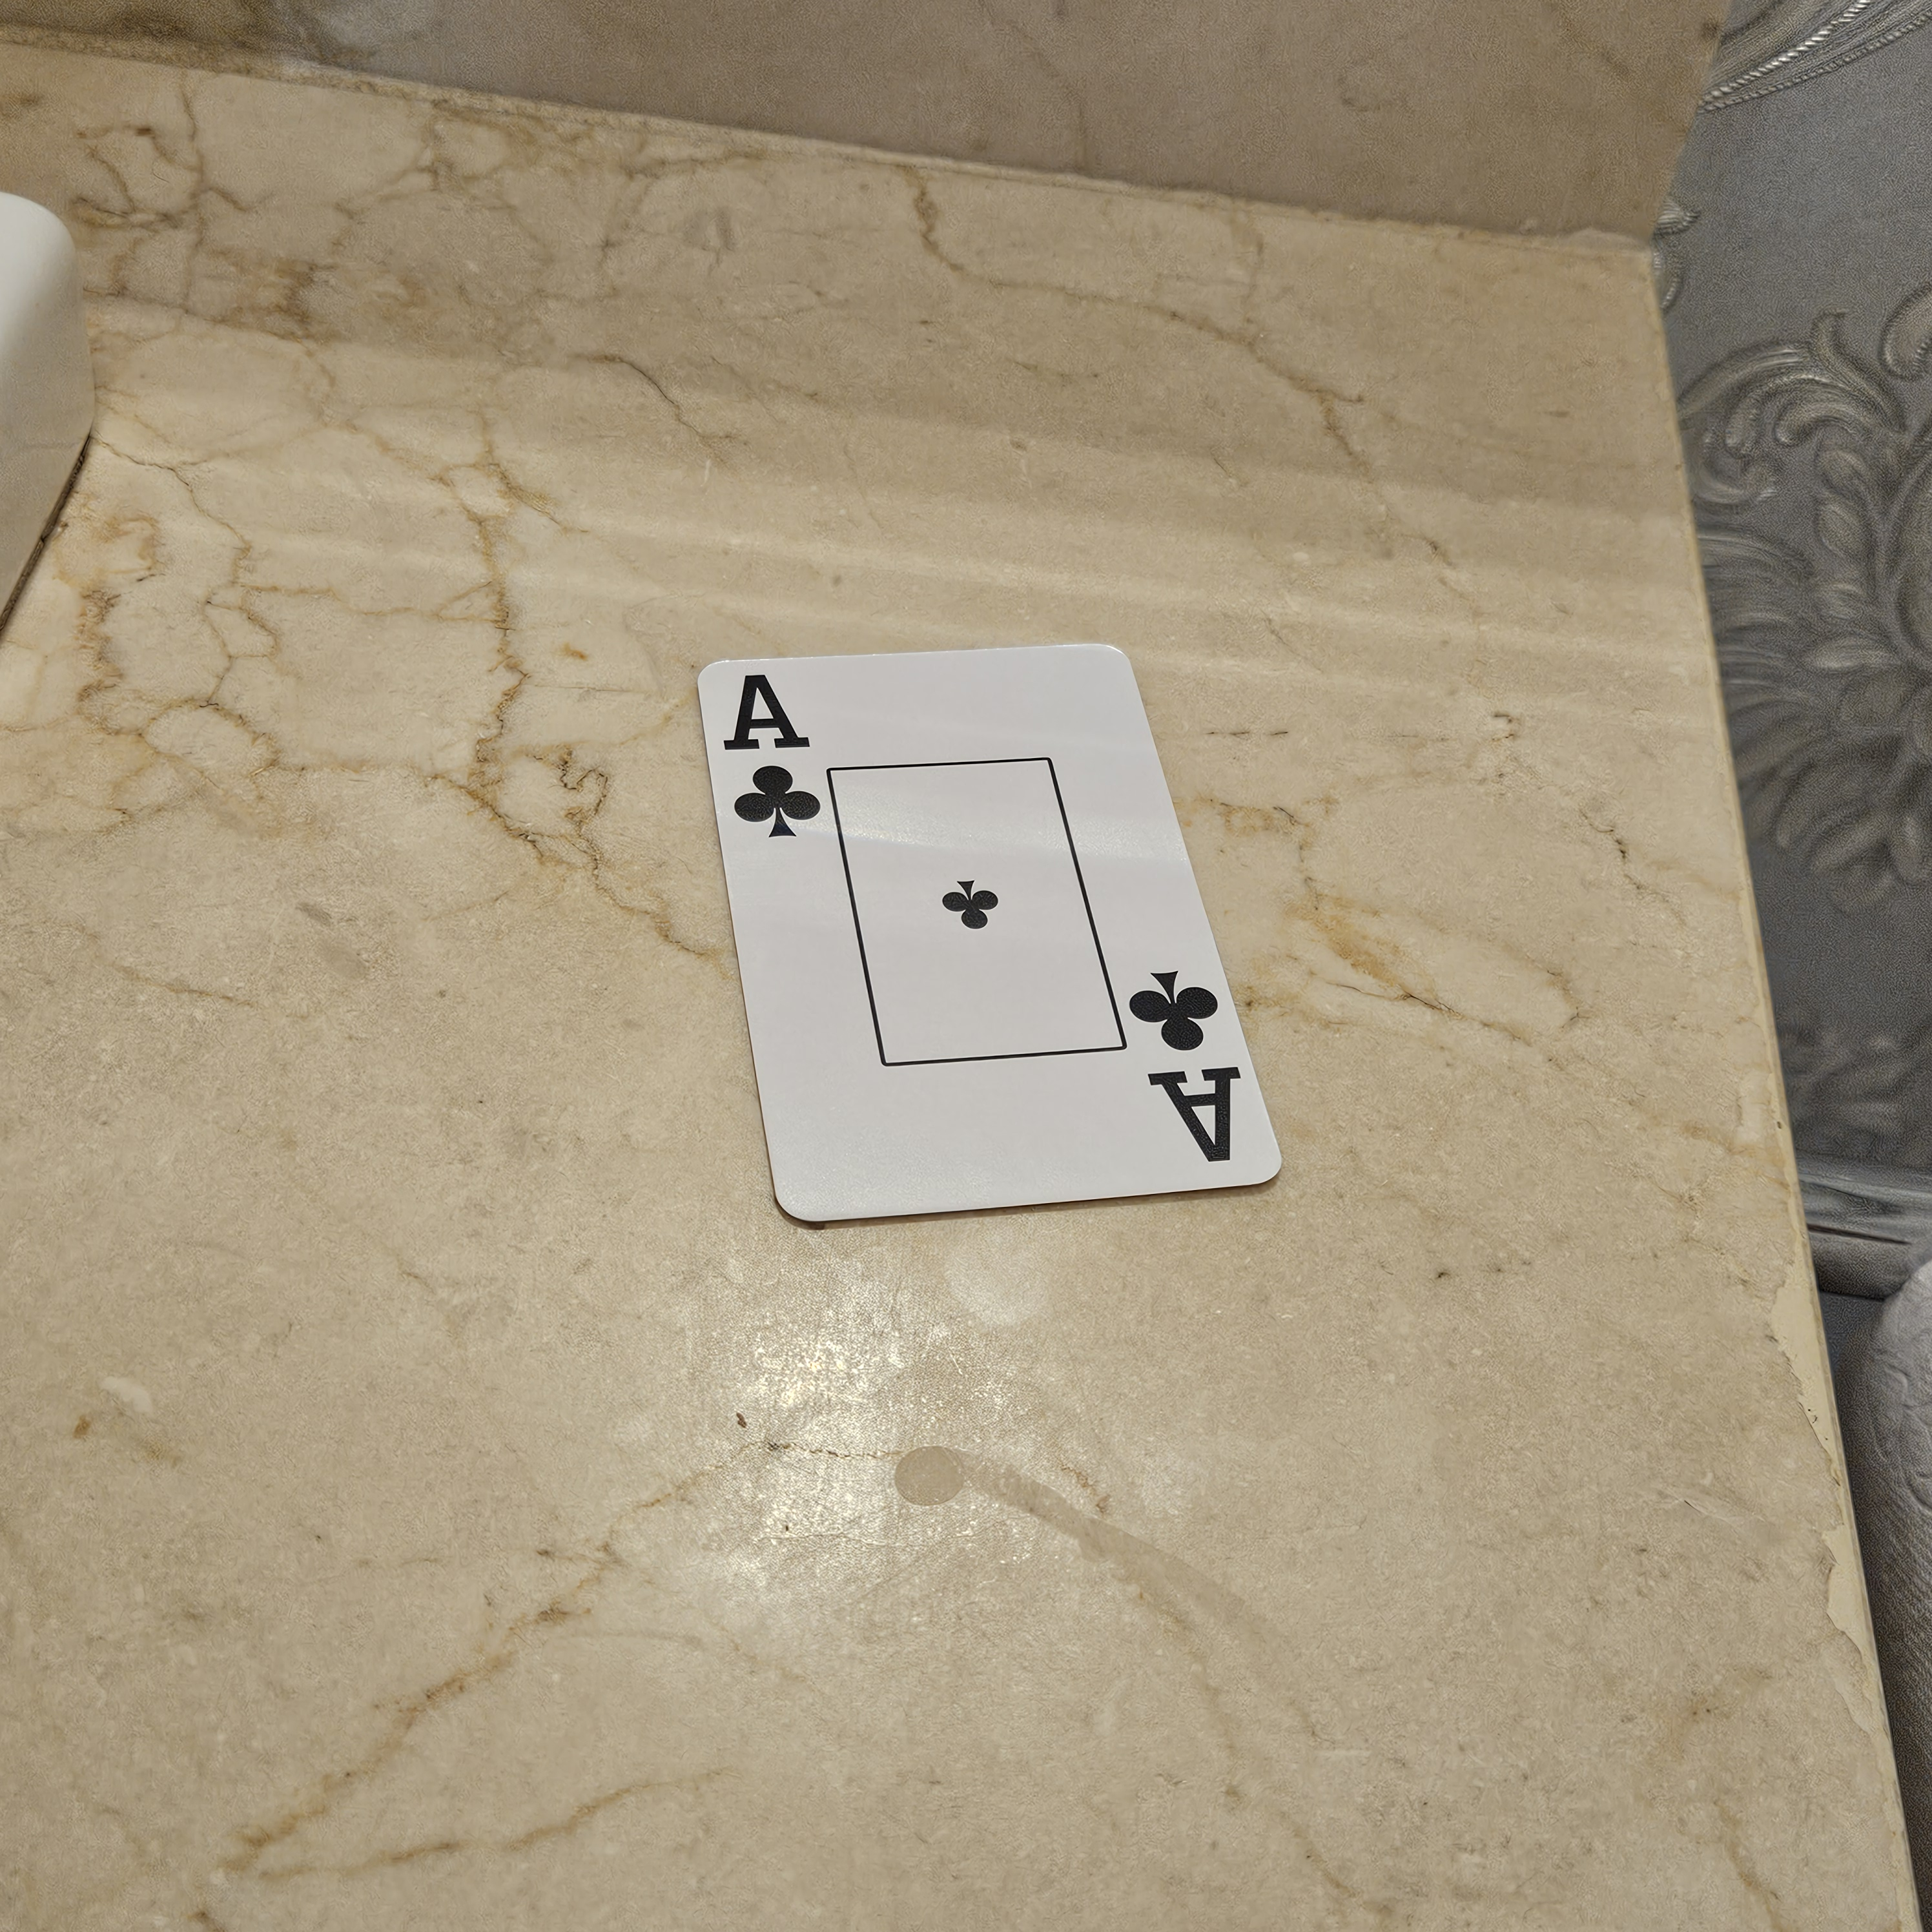AP: (1104, 955, 1265, 1184), (706, 655, 828, 867)
